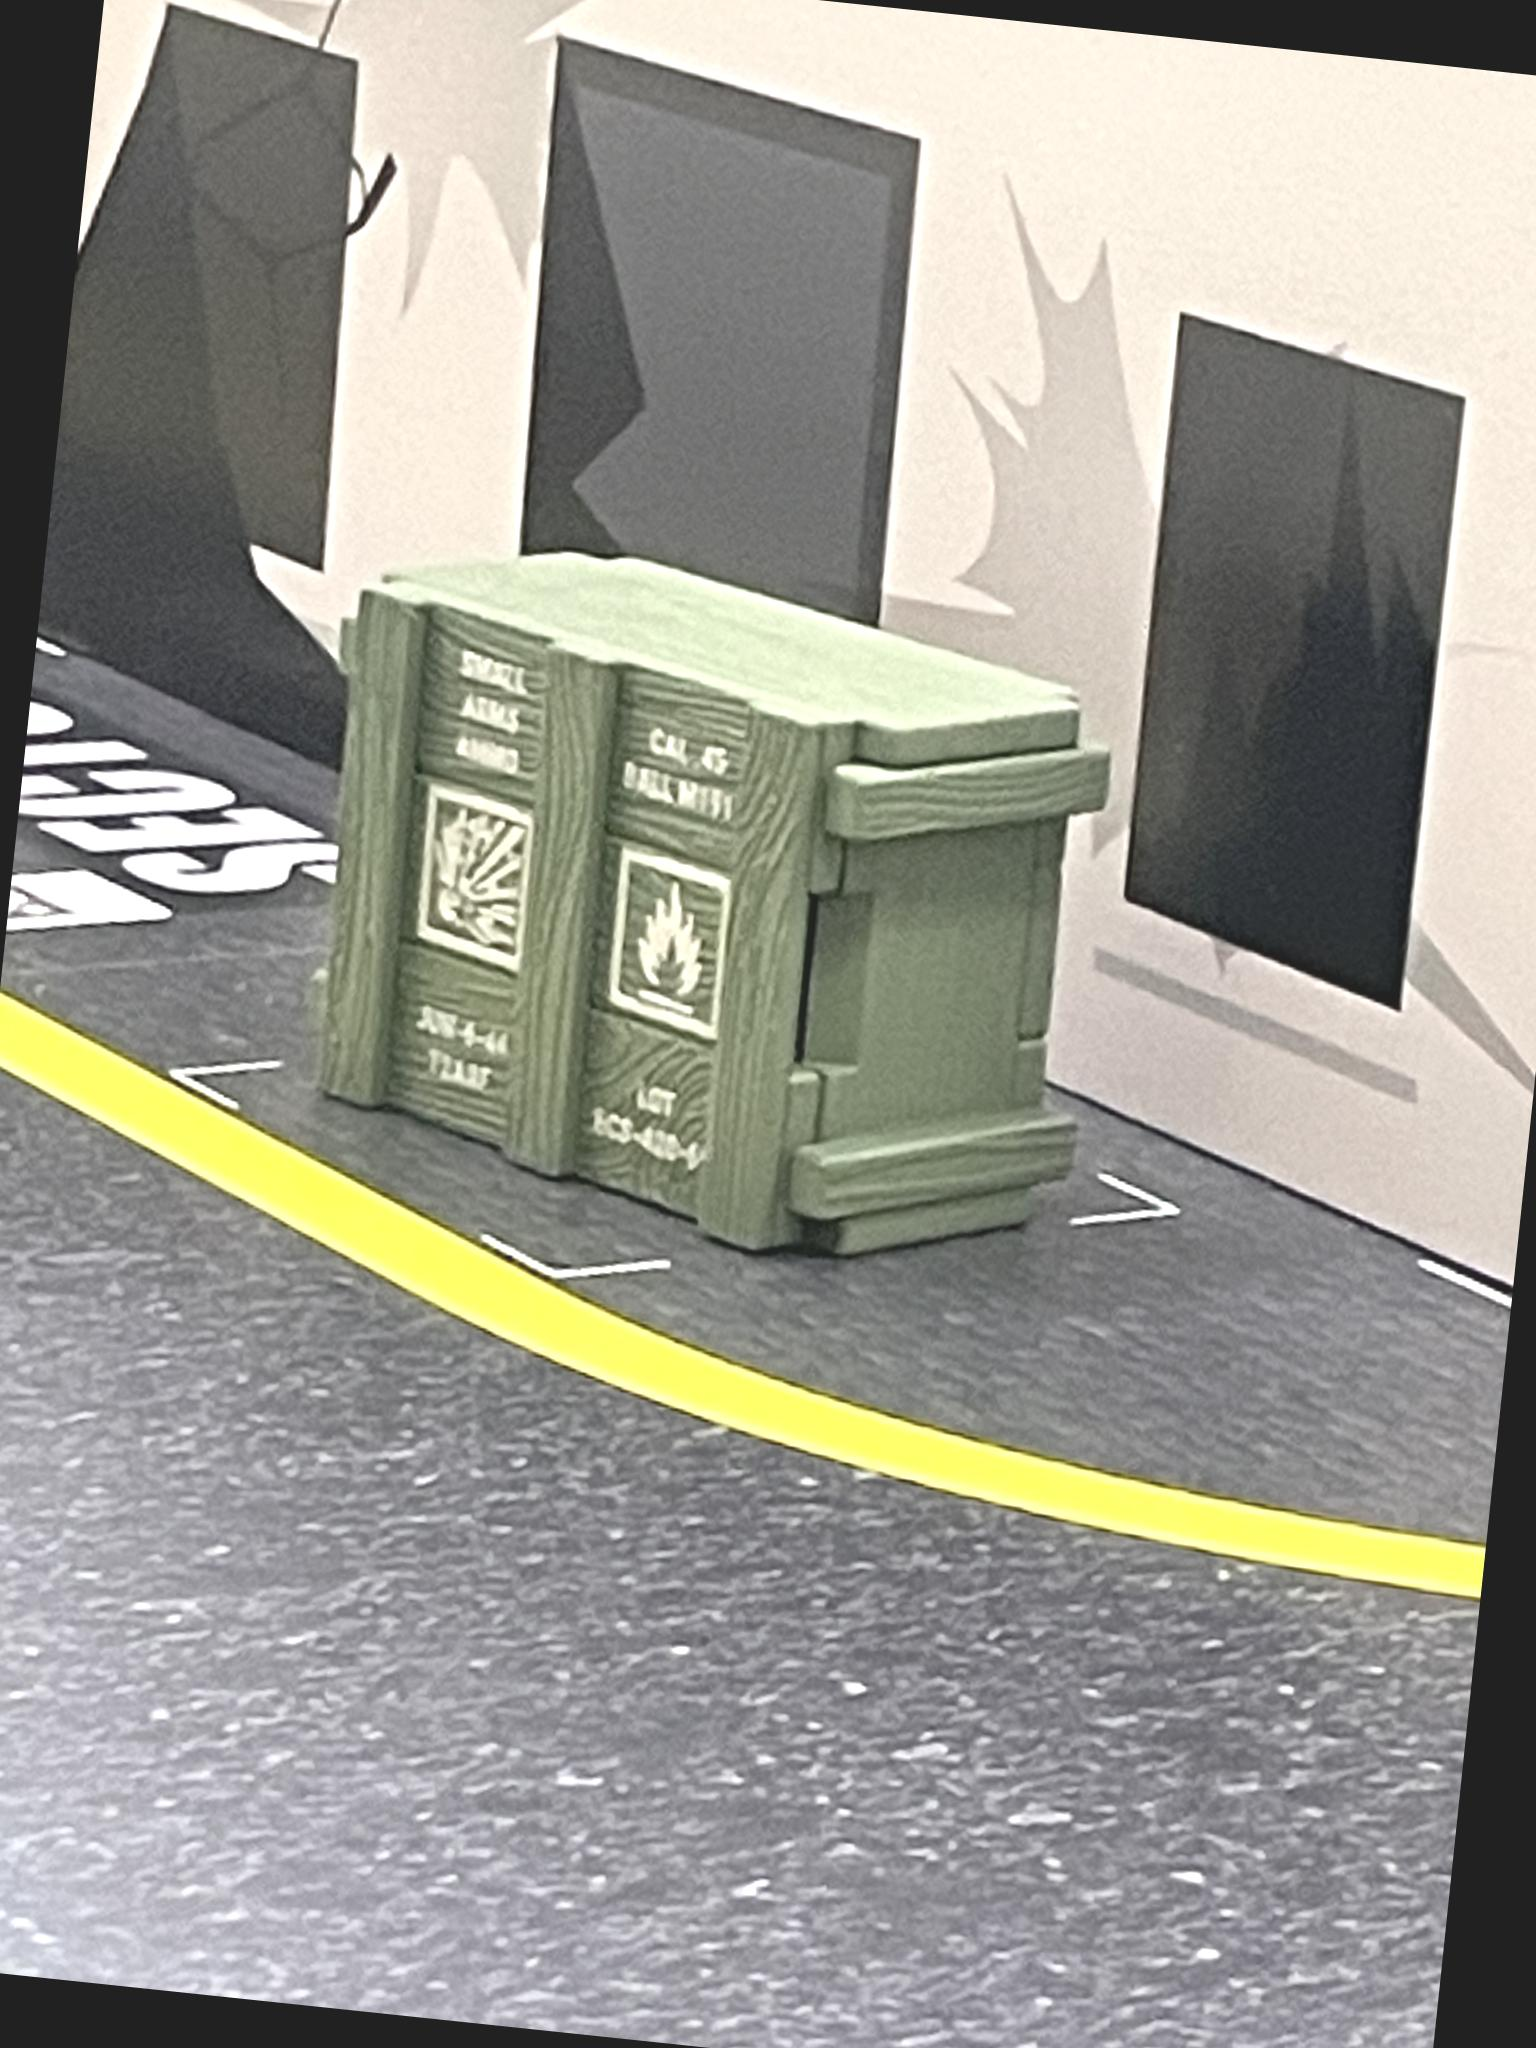Box: (266, 503, 1170, 1311)
